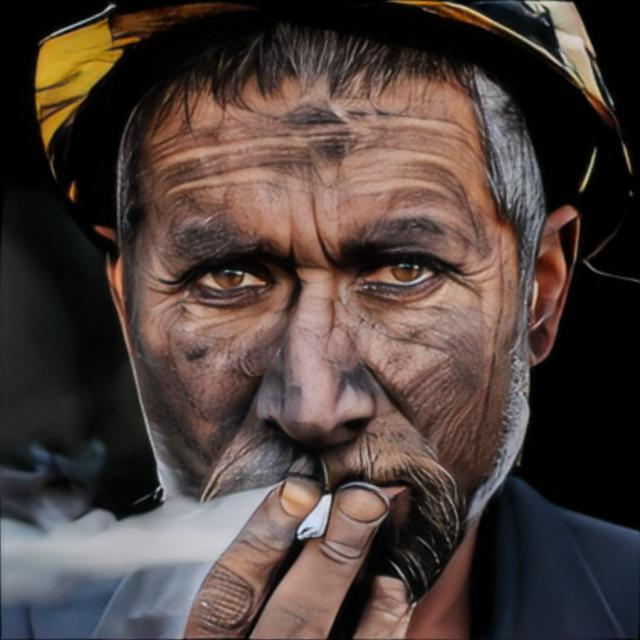anger: (126, 74, 521, 618)
